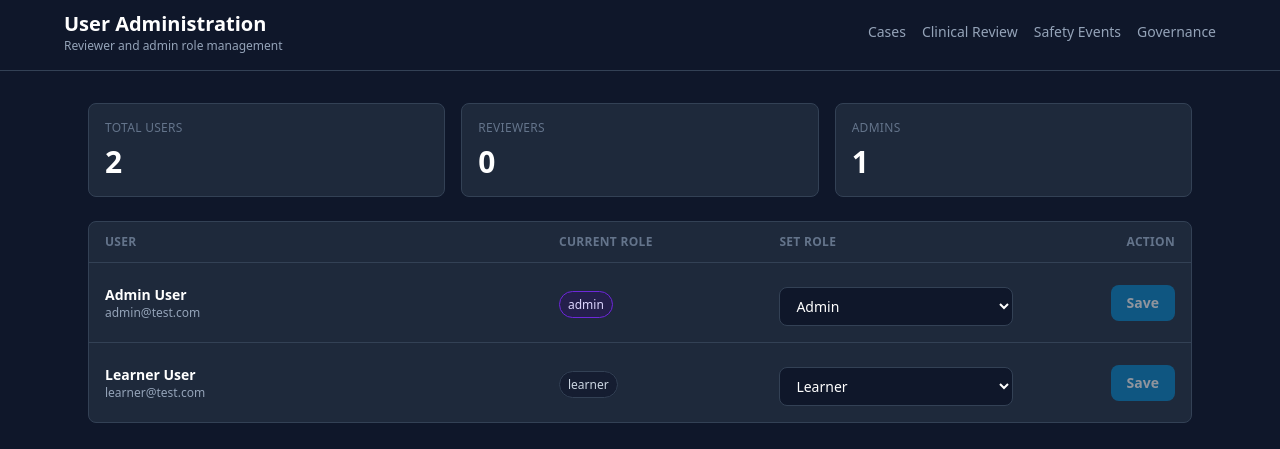
it: AdminUsersPage › does not allow an admin to demote themselves in the UI
Select "Learner" in the dropdown named "Role for Admin User" in the row of "admin@test.com": (896, 306) [779,287,1013,326]
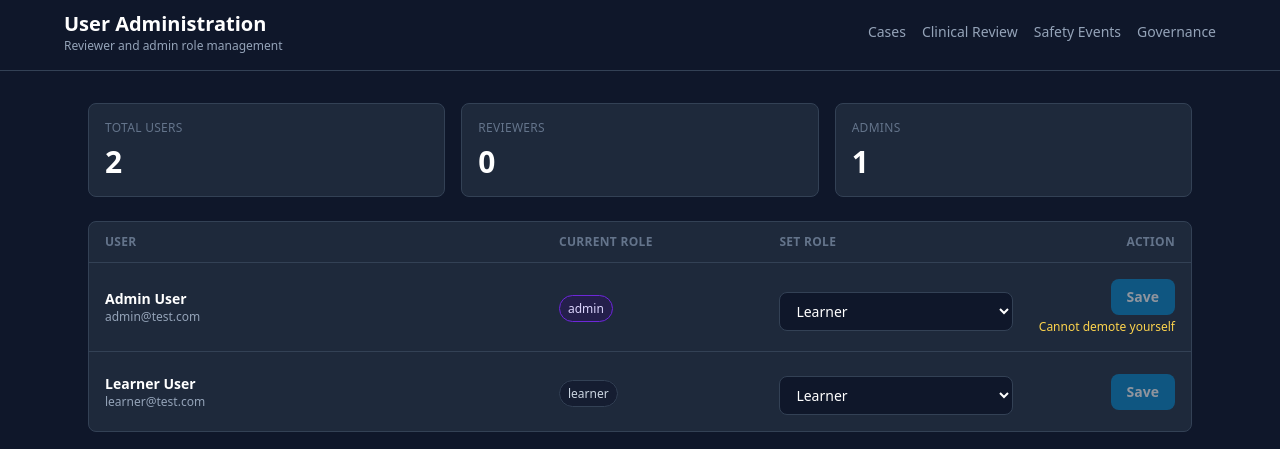
Expected: the button "Save" in the row of "admin@test.com" is disabled, [1111,279,1175,315]
Expected: the text "Cannot demote yourself" is shown, [1029,319,1175,335]
